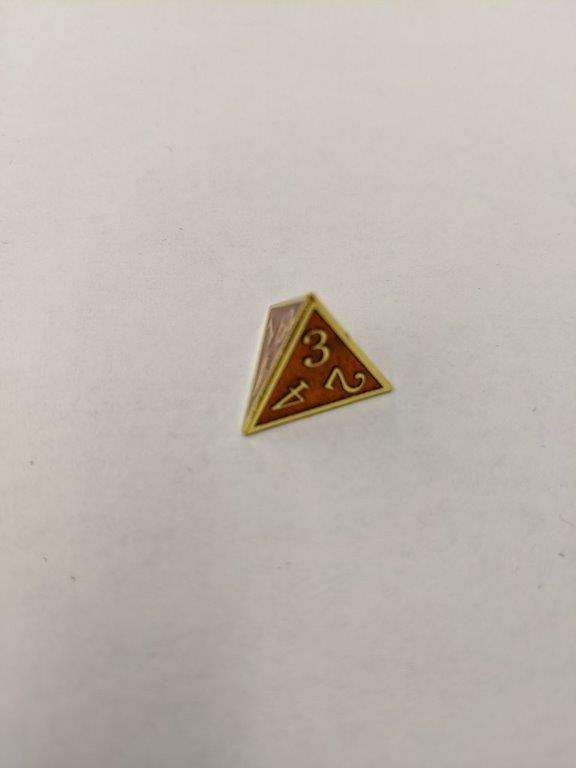d4-3: (231, 286, 393, 441)
